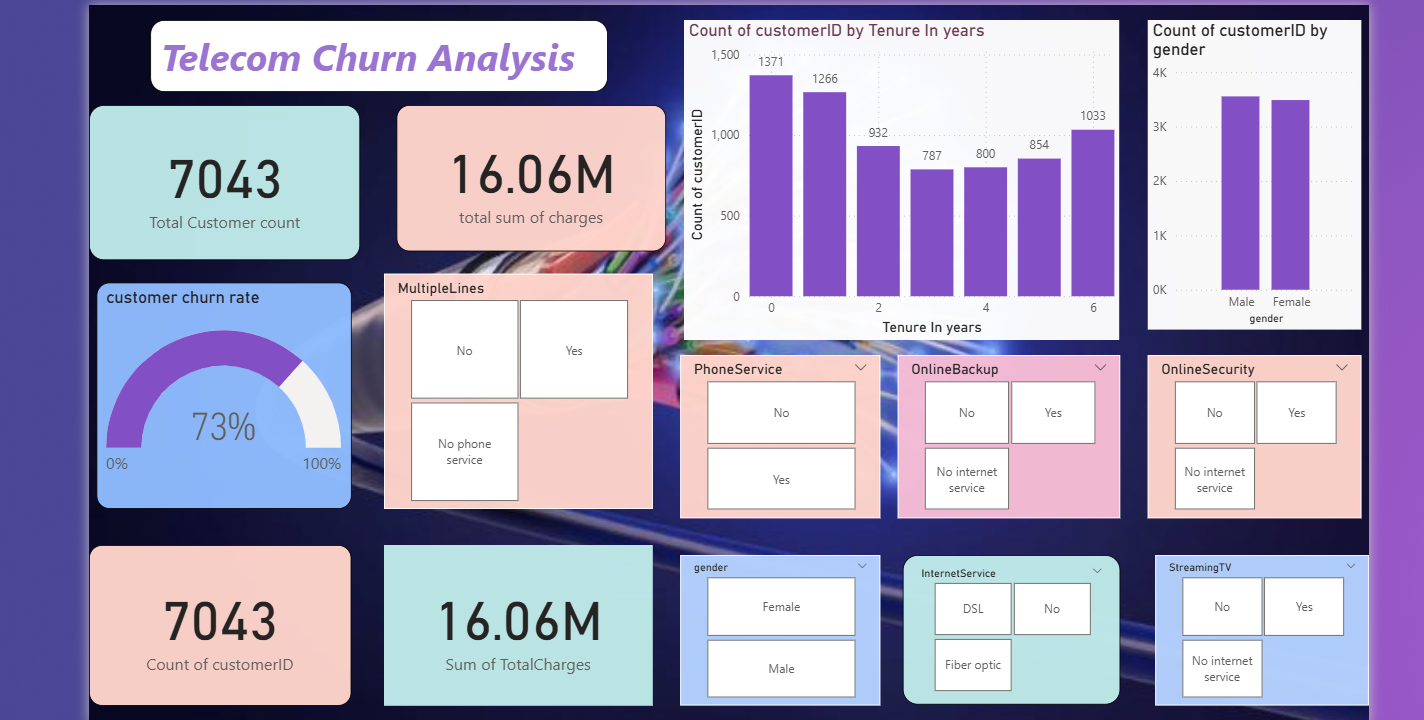

What the dashboard file says about the page in this screenshot:
{"tool":"powerbi","page":{"name":"Page 1","canvas":[1280,720],"ordinal":0},"visuals":[{"type":"card","fields":{"Values":["CountNonNull(WA_Fn-UseC_-Telco-Customer-Chur.customerID)"]},"box":[0,539.9,262.5,160.5],"z":0},{"type":"card","fields":{"Values":["Sum(WA_Fn-UseC_-Telco-Customer-Chur.TotalCharges)"]},"box":[294.8,539.9,268.7,160.5],"z":1000},{"type":"columnChart","fields":{"Category":["WA_Fn-UseC_-Telco-Customer-Chur.Tenure In years"],"Y":["CountNonNull(WA_Fn-UseC_-Telco-Customer-Chur.customerID)"]},"box":[595.1,14.7,435.6,320.2],"z":2000},{"type":"columnChart","fields":{"Category":["WA_Fn-UseC_-Telco-Customer-Chur.gender"],"Y":["CountNonNull(WA_Fn-UseC_-Telco-Customer-Chur.customerID)"]},"box":[1058.6,14.9,214,309.7],"z":3000},{"type":"card","fields":{"Values":["WA_Fn-UseC_-Telco-Customer-Chur.Total Customer count"]},"box":[0,99.5,271.2,155.5],"z":4000},{"type":"slicer","fields":{"Values":["WA_Fn-UseC_-Telco-Customer-Chur.gender"]},"box":[590.9,549.8,200.3,150.5],"z":5000},{"type":"card","fields":{"Values":["WA_Fn-UseC_-Telco-Customer-Chur.total sum of charges"]},"box":[307.3,99.5,269.9,146.8],"z":6000},{"type":"slicer","fields":{"Values":["WA_Fn-UseC_-Telco-Customer-Chur.PhoneService"]},"box":[590.9,349.6,200.3,163],"z":7000},{"type":"slicer","fields":{"Values":["WA_Fn-UseC_-Telco-Customer-Chur.MultipleLines"]},"box":[294.8,268.7,268.7,235.1],"z":8000},{"type":"gauge","fields":{"Y":["WA_Fn-UseC_-Telco-Customer-Chur.customer churn rate"]},"box":[7.8,277.4,255,226.4],"z":9000},{"type":"slicer","fields":{"Values":["WA_Fn-UseC_-Telco-Customer-Chur.OnlineBackup"]},"box":[808.6,350,222.7,163],"z":10000},{"type":"slicer","fields":{"Values":["WA_Fn-UseC_-Telco-Customer-Chur.OnlineSecurity"]},"box":[1058.6,350,214,163],"z":11000},{"type":"slicer","fields":{"Values":["WA_Fn-UseC_-Telco-Customer-Chur.InternetService"]},"box":[813.5,549.8,217.7,149.3],"z":12000},{"type":"slicer","fields":{"Values":["WA_Fn-UseC_-Telco-Customer-Chur.StreamingTV"]},"box":[1066.1,549.8,214,150.5],"z":13000},{"type":"textbox","box":[61,14.9,457.8,72.1],"z":14000}]}

Visuals, with their boxes in screenshot pixels (x1, y1, x2, y2):
card - CountNonNull(WA_Fn-UseC_-Telco-Customer-Chur.customerID): {"left": 100, "top": 539, "right": 359, "bottom": 698}
card - Sum(WA_Fn-UseC_-Telco-Customer-Chur.TotalCharges): {"left": 391, "top": 539, "right": 655, "bottom": 698}
columnChart - WA_Fn-UseC_-Telco-Customer-Chur.Tenure In years x CountNonNull(WA_Fn-UseC_-Telco-Customer-Chur.customerID): {"left": 687, "top": 22, "right": 1116, "bottom": 337}
columnChart - WA_Fn-UseC_-Telco-Customer-Chur.gender x CountNonNull(WA_Fn-UseC_-Telco-Customer-Chur.customerID): {"left": 1143, "top": 22, "right": 1354, "bottom": 327}
card - WA_Fn-UseC_-Telco-Customer-Chur.Total Customer count: {"left": 100, "top": 105, "right": 367, "bottom": 259}
slicer - WA_Fn-UseC_-Telco-Customer-Chur.gender: {"left": 682, "top": 549, "right": 880, "bottom": 697}
card - WA_Fn-UseC_-Telco-Customer-Chur.total sum of charges: {"left": 403, "top": 105, "right": 669, "bottom": 250}
slicer - WA_Fn-UseC_-Telco-Customer-Chur.PhoneService: {"left": 682, "top": 352, "right": 880, "bottom": 513}
slicer - WA_Fn-UseC_-Telco-Customer-Chur.MultipleLines: {"left": 391, "top": 272, "right": 655, "bottom": 504}
gauge - WA_Fn-UseC_-Telco-Customer-Chur.customer churn rate: {"left": 108, "top": 281, "right": 359, "bottom": 504}
slicer - WA_Fn-UseC_-Telco-Customer-Chur.OnlineBackup: {"left": 897, "top": 352, "right": 1116, "bottom": 513}
slicer - WA_Fn-UseC_-Telco-Customer-Chur.OnlineSecurity: {"left": 1143, "top": 352, "right": 1354, "bottom": 513}
slicer - WA_Fn-UseC_-Telco-Customer-Chur.InternetService: {"left": 902, "top": 549, "right": 1116, "bottom": 696}
slicer - WA_Fn-UseC_-Telco-Customer-Chur.StreamingTV: {"left": 1151, "top": 549, "right": 1362, "bottom": 697}
textbox: {"left": 160, "top": 22, "right": 611, "bottom": 93}
